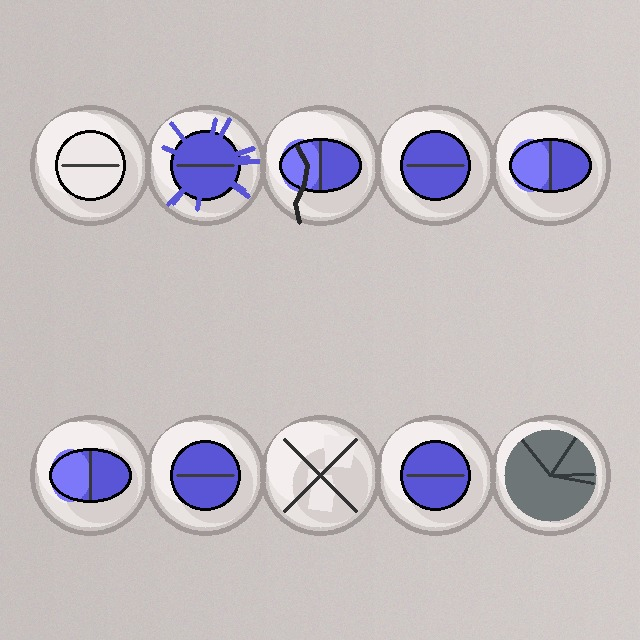broken: (258, 413, 382, 537)
crack: (258, 103, 382, 227)
empty: (488, 413, 612, 537)
flash: (143, 103, 267, 227)
